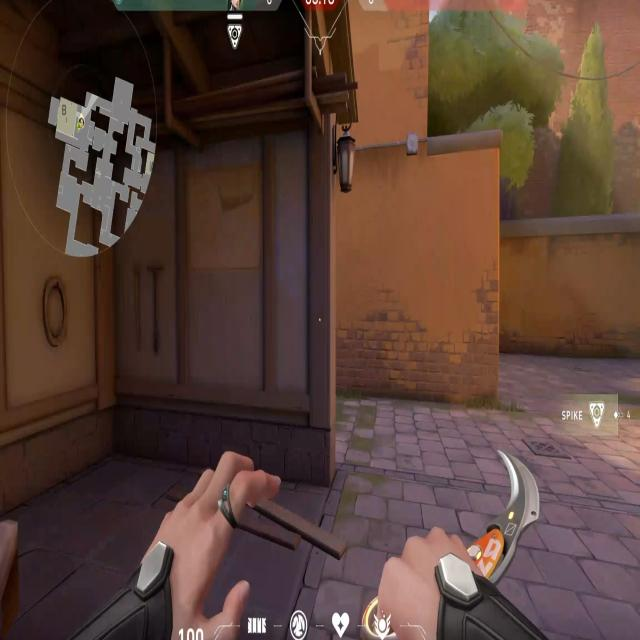B_Garage_Right: (2, 50, 356, 521)
